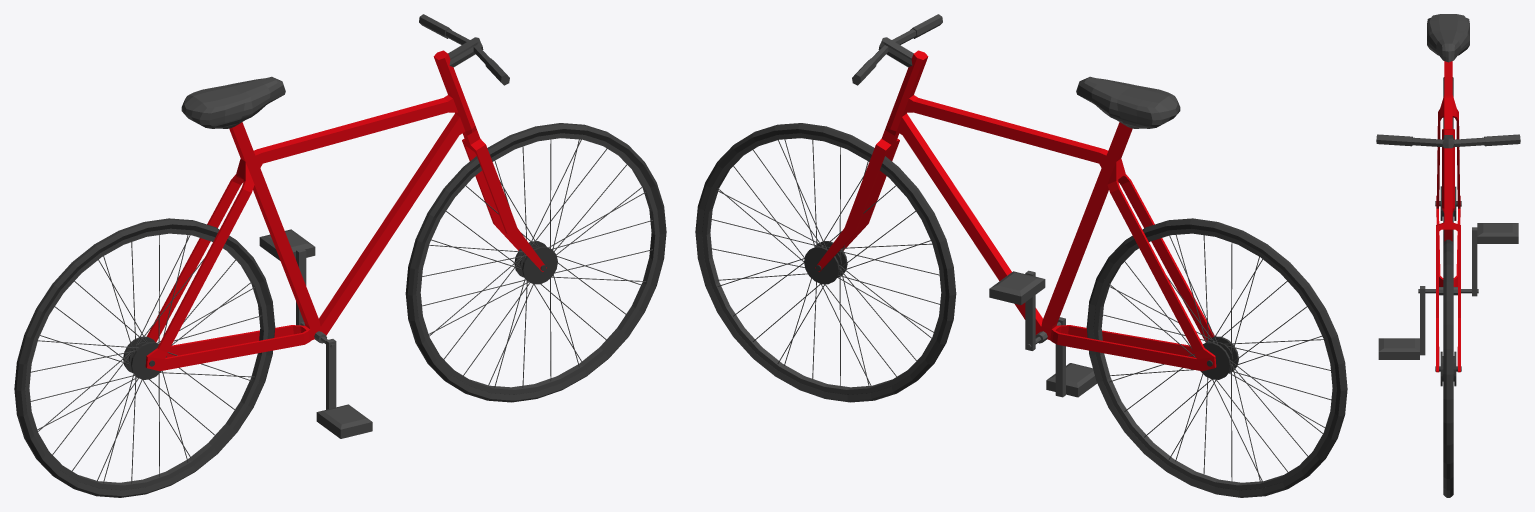
The model's file is bike.fbx.
The picture shows the model from 3 angles, left to right: view 1: azimuth 30°, elevation 25°; view 2: azimuth 150°, elevation 25°; view 3: azimuth 270°, elevation 25°; orthographic projection. The views are drawn at different scales.
Visible parts, largest first — view 1: Frame, Front_wheel, Rear_wheel, Front_spoke, Rear_spoke, Saddle, Cube, handle; view 2: Frame, Front_wheel, Rear_wheel, Front_spoke, Rear_spoke, Saddle, Cube, handle; view 3: Frame, Front_wheel, Cube, Saddle, handle, Rear_wheel, Cylinder.
Part boxes in pixels (x1,y1,x2,y2): Frame: (145,50,546,371); Front_wheel: (405,123,666,402); Rear_wheel: (14,218,275,497); Front_spoke: (422,139,652,387); Rear_spoke: (30,235,261,483); Saddle: (181,76,285,128); Cube: (259,229,372,438); handle: (419,14,509,85); Frame: (815,50,1216,371); Front_wheel: (695,123,956,402); Rear_wheel: (1086,218,1347,497); Front_spoke: (710,139,939,386); Rear_spoke: (1102,234,1331,482); Saddle: (1076,76,1180,128); Cube: (989,270,1097,397); handle: (852,14,942,85); Frame: (1436,61,1460,372); Front_wheel: (1435,239,1461,497); Cube: (1378,223,1518,359); Saddle: (1427,14,1469,62); handle: (1376,134,1520,148); Rear_wheel: (1435,77,1461,242); Cylinder: (1418,287,1478,295).
Size of the model in its own units: 788 by 445 by 175.
